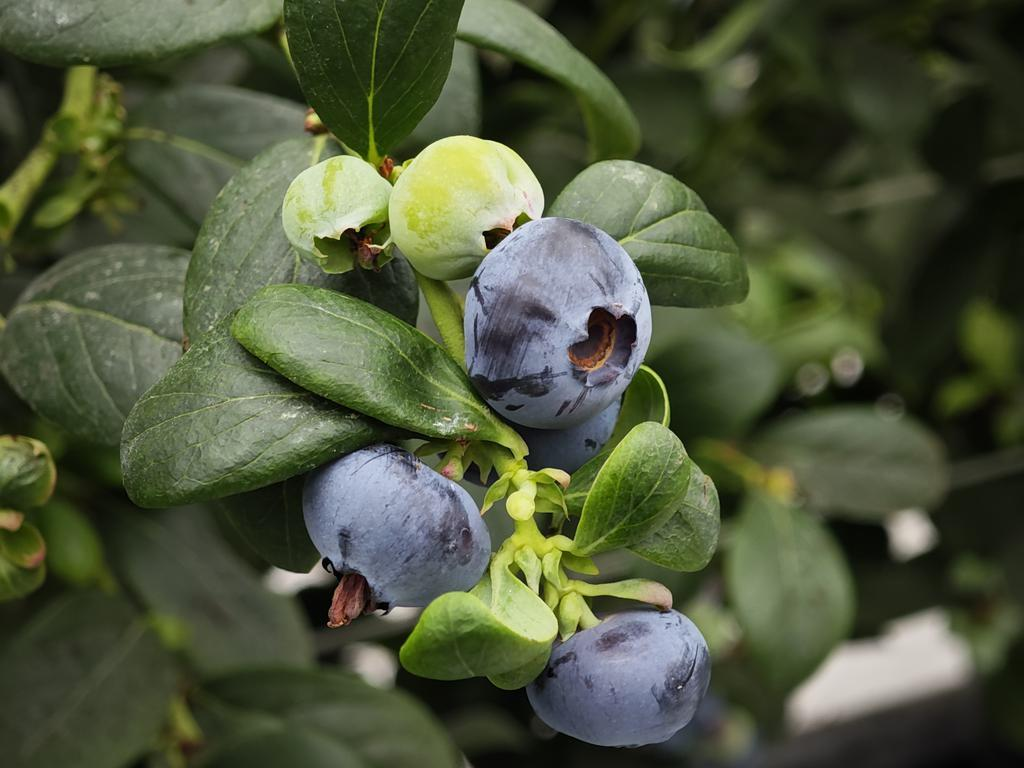RipeBlueBerry: (459, 213, 657, 430), (297, 443, 496, 616), (528, 600, 715, 753)
UnripeBlueBerry: (385, 129, 548, 281)
